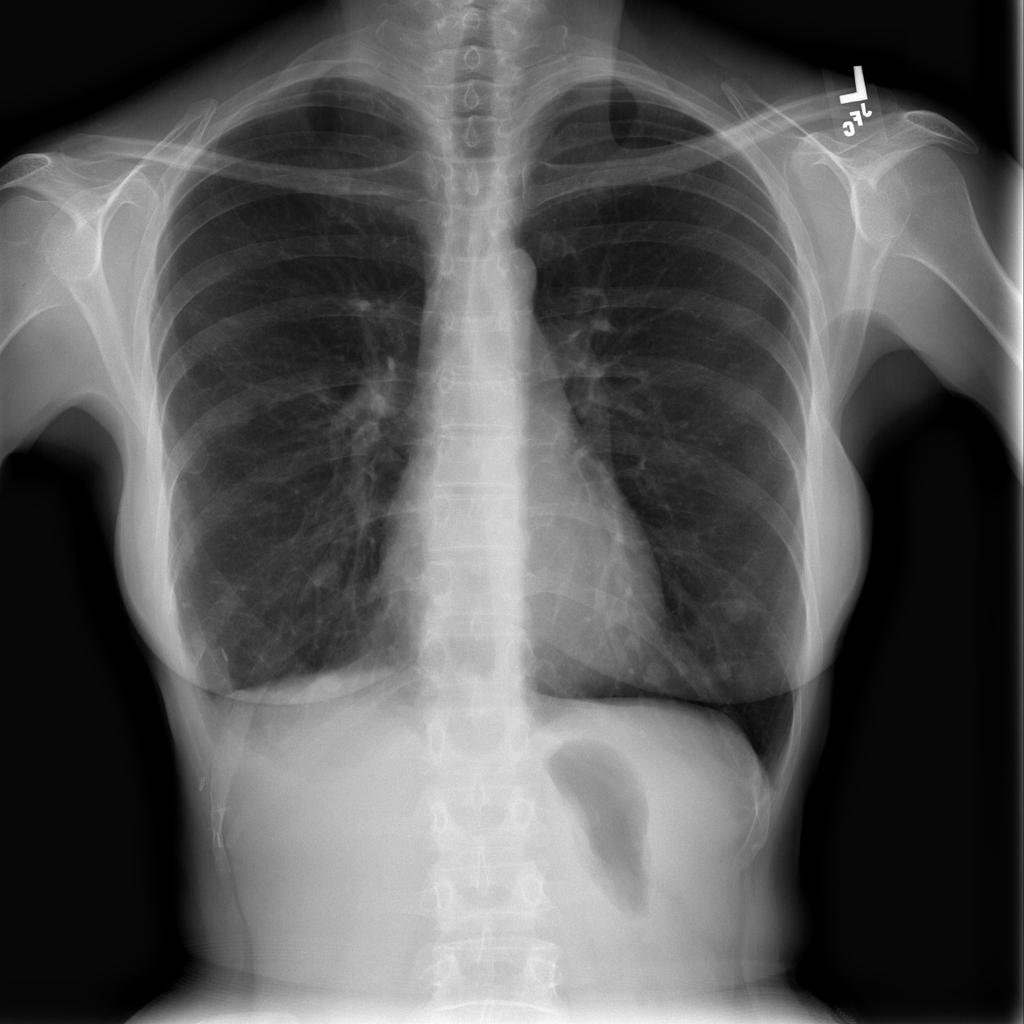nodule: (625, 638, 700, 704), (299, 550, 350, 603), (711, 582, 760, 634)
